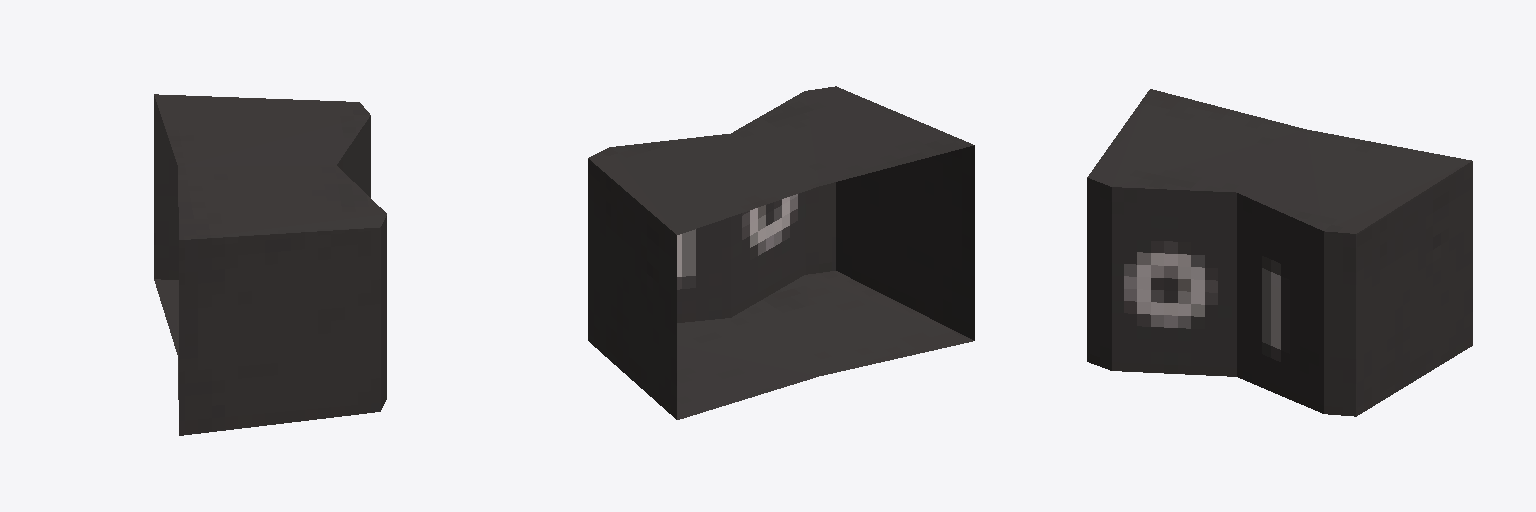
3 views of the same model, side by side, from view 1: azimuth 30°, elevation 25°; view 2: azimuth 150°, elevation 25°; view 3: azimuth 270°, elevation 25° (orthographic).
Parts seen in each view (by area): view 1: onfoff_low; view 2: onfoff_low; view 3: onfoff_low.
Part boxes in pixels (x1,y1,x2,y2): onfoff_low: (154,94,386,435); onfoff_low: (588,86,974,419); onfoff_low: (1087,89,1472,416).
Size of the model in its own units: 0.3754 by 0.2472 by 0.4411.
Materials: 1 (1 with a texture image).